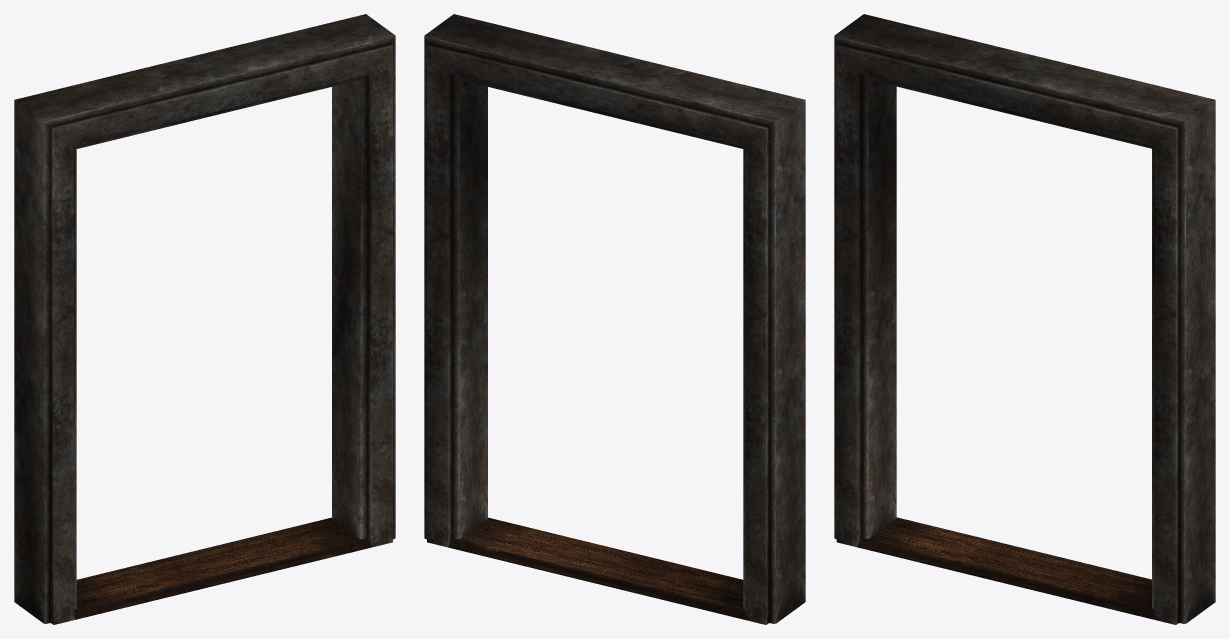
File: scanningroom_damaged_doorframe.dae
3 renders of one model, left to right at view 1: azimuth 30°, elevation 25°; view 2: azimuth 150°, elevation 25°; view 3: azimuth 330°, elevation 25°, orthographic.
Visible parts, largest first — view 1: pCube2; view 2: pCube2; view 3: pCube2.
Boxes of the visible parts, x1,y1,x2,y2 form: pCube2: [14, 14, 395, 624]; pCube2: [424, 14, 805, 624]; pCube2: [834, 14, 1215, 624].
Bounding box in the file's own units: 2.17 × 2.97 × 0.4.
